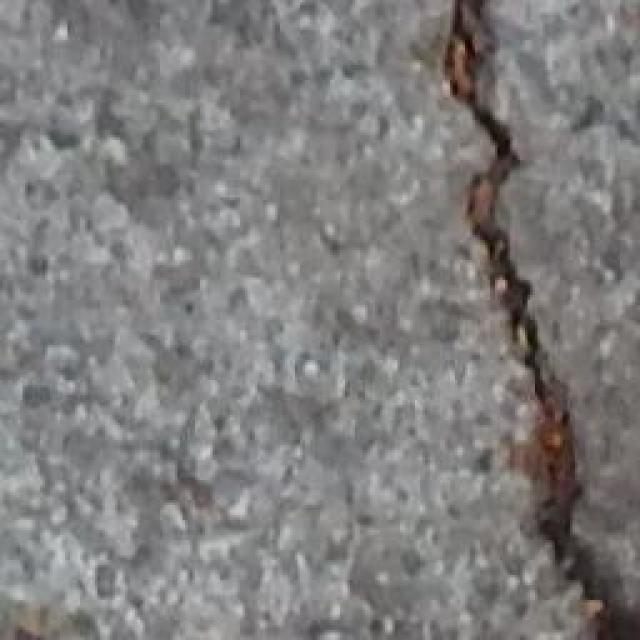concrete-crack: (433, 0, 640, 640)
